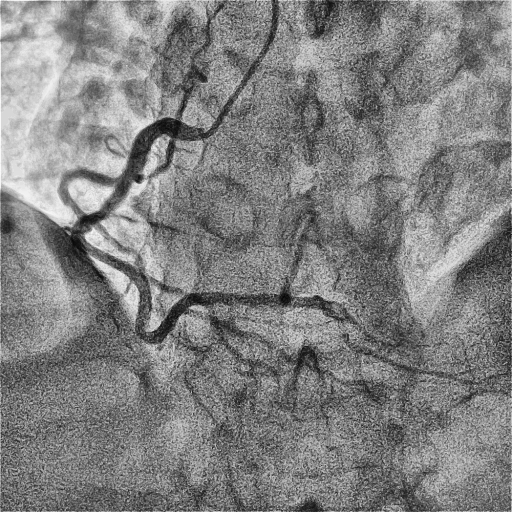pborca: (279, 232, 308, 294)
pda: (284, 296, 473, 383)
rca: (71, 118, 290, 346)
